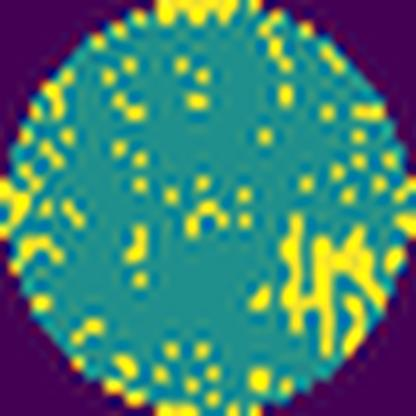Loc: (283, 215, 384, 354), (158, 0, 235, 24)
